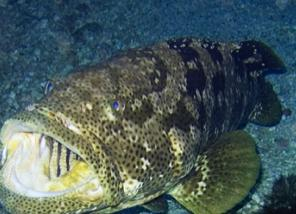Serranidae -Groupers-: (0, 30, 293, 214)
